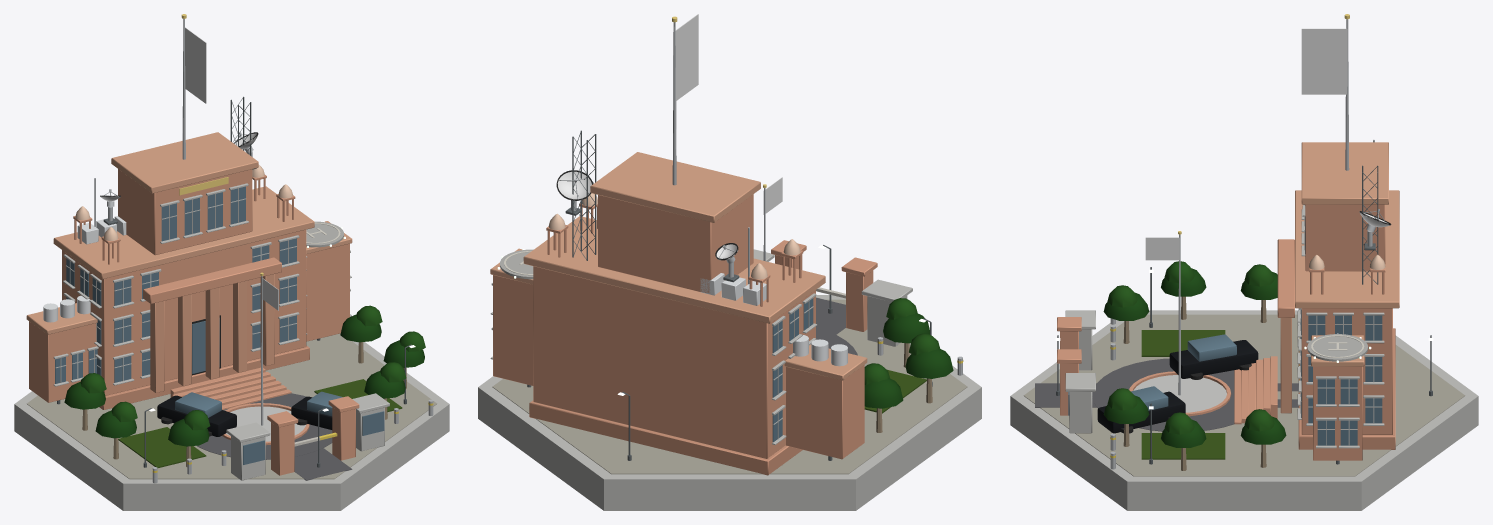
File: hq_india.glb
3 views of the same model, side by side, from view 1: azimuth 30°, elevation 25°; view 2: azimuth 150°, elevation 25°; view 3: azimuth 270°, elevation 25° (orthographic). The views are drawn at different scales.
Parts seen in each view (by area): view 1: stone, wall_concrete, pavers, glass, leaf, asphalt, turf, paint, banner, metal, cladding, steel_dark (+2 smaller); view 2: stone, wall_concrete, pavers, leaf, cladding, banner, steel_dark, metal, glass, asphalt, paint, plaster (+1 smaller); view 3: stone, wall_concrete, pavers, leaf, glass, banner, asphalt, paint, turf, metal, steel_dark, wood.
Part boxes in pixels (x1,y1,x2,y2): stone: [26, 132, 359, 475]; wall_concrete: [14, 183, 449, 510]; pavers: [27, 333, 436, 479]; glass: [55, 186, 384, 464]; leaf: [64, 305, 425, 446]; asphalt: [197, 393, 352, 480]; turf: [118, 379, 402, 468]; paint: [100, 133, 340, 446]; banner: [185, 27, 278, 310]; metal: [94, 19, 433, 483]; cladding: [43, 216, 126, 322]; steel_dark: [57, 96, 411, 467]; stone: [490, 152, 877, 475]; wall_concrete: [478, 249, 981, 510]; pavers: [492, 299, 967, 474]; leaf: [864, 298, 953, 408]; cladding: [700, 273, 847, 366]; banner: [673, 14, 782, 214]; steel_dark: [527, 130, 932, 460]; metal: [559, 22, 962, 375]; glass: [772, 298, 813, 442]; asphalt: [816, 297, 857, 355]; paint: [504, 171, 845, 298]; plaster: [548, 193, 800, 279]; stone: [1057, 142, 1399, 460]; wall_concrete: [1010, 204, 1478, 510]; pavers: [1023, 314, 1465, 476]; leaf: [1103, 261, 1286, 447]; glass: [1068, 205, 1382, 445]; banner: [1145, 28, 1347, 260]; asphalt: [1035, 358, 1298, 431]; paint: [1097, 211, 1391, 433]; turf: [1141, 330, 1225, 459]; metal: [1110, 19, 1385, 469]; steel_dark: [1056, 165, 1432, 464]; wood: [1123, 296, 1266, 470].
Size of the model in its own units: 21.3 by 23.78 by 24.6.
